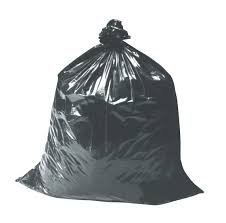Trash: (8, 1, 212, 209)
